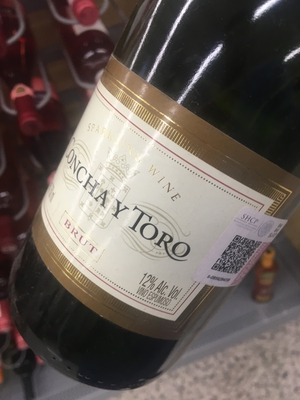brut: (27, 8, 300, 377)
